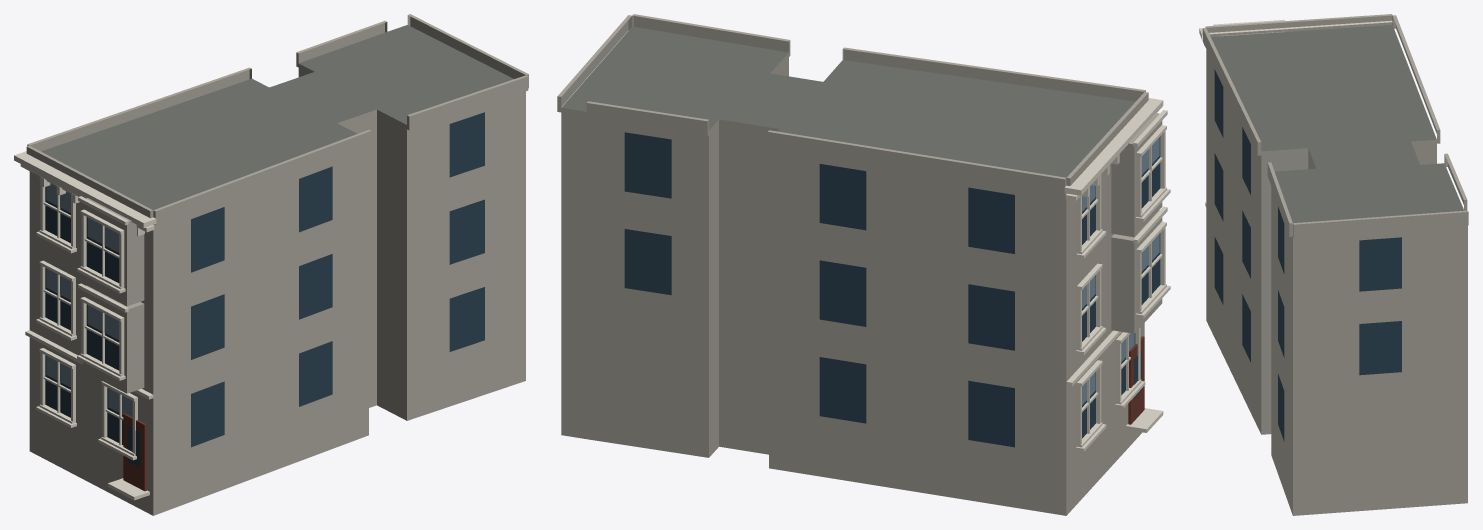
3 renders of one model, left to right at view 1: azimuth 30°, elevation 25°; view 2: azimuth 150°, elevation 25°; view 3: azimuth 270°, elevation 25°, orthographic. The views are drawn at different scales.
Parts seen in each view (by area): view 1: Footprint 0 / surface 2, Footprint 0 / surface 1, Inset glazing, Facade bay volumes, Cornices and window frames, Sky reflection panels, Storefronts and doors; view 2: Footprint 0 / surface 2, Footprint 0 / surface 1, Inset glazing, Facade bay volumes, Cornices and window frames, Sky reflection panels, Storefronts and doors; view 3: Footprint 0 / surface 2, Footprint 0 / surface 1, Inset glazing, Facade bay volumes, Cornices and window frames.
Boxes of the visible parts, x1,y1,x2,y2 form: Footprint 0 / surface 2: (29,64,525,515); Footprint 0 / surface 1: (41,25,513,210); Inset glazing: (45,112,484,467); Facade bay volumes: (26,14,528,393); Cornices and window frames: (14,151,156,500); Sky reflection panels: (46,183,132,417); Storefronts and doors: (123,413,146,491); Footprint 0 / surface 2: (561,53,1144,515); Footprint 0 / surface 1: (561,26,1135,177); Inset glazing: (624,132,1160,447); Facade bay volumes: (557,14,1162,333); Cornices and window frames: (1064,98,1170,451); Sky reflection panels: (1082,137,1159,404); Storefronts and doors: (1128,336,1144,424); Footprint 0 / surface 2: (1206,49,1467,515); Footprint 0 / surface 1: (1211,25,1463,223); Inset glazing: (1214,69,1401,441); Facade bay volumes: (1202,14,1468,237); Cornices and window frames: (1199,20,1392,206).
Size of the model in its own units: 17.17 by 10.85 by 9.04.
